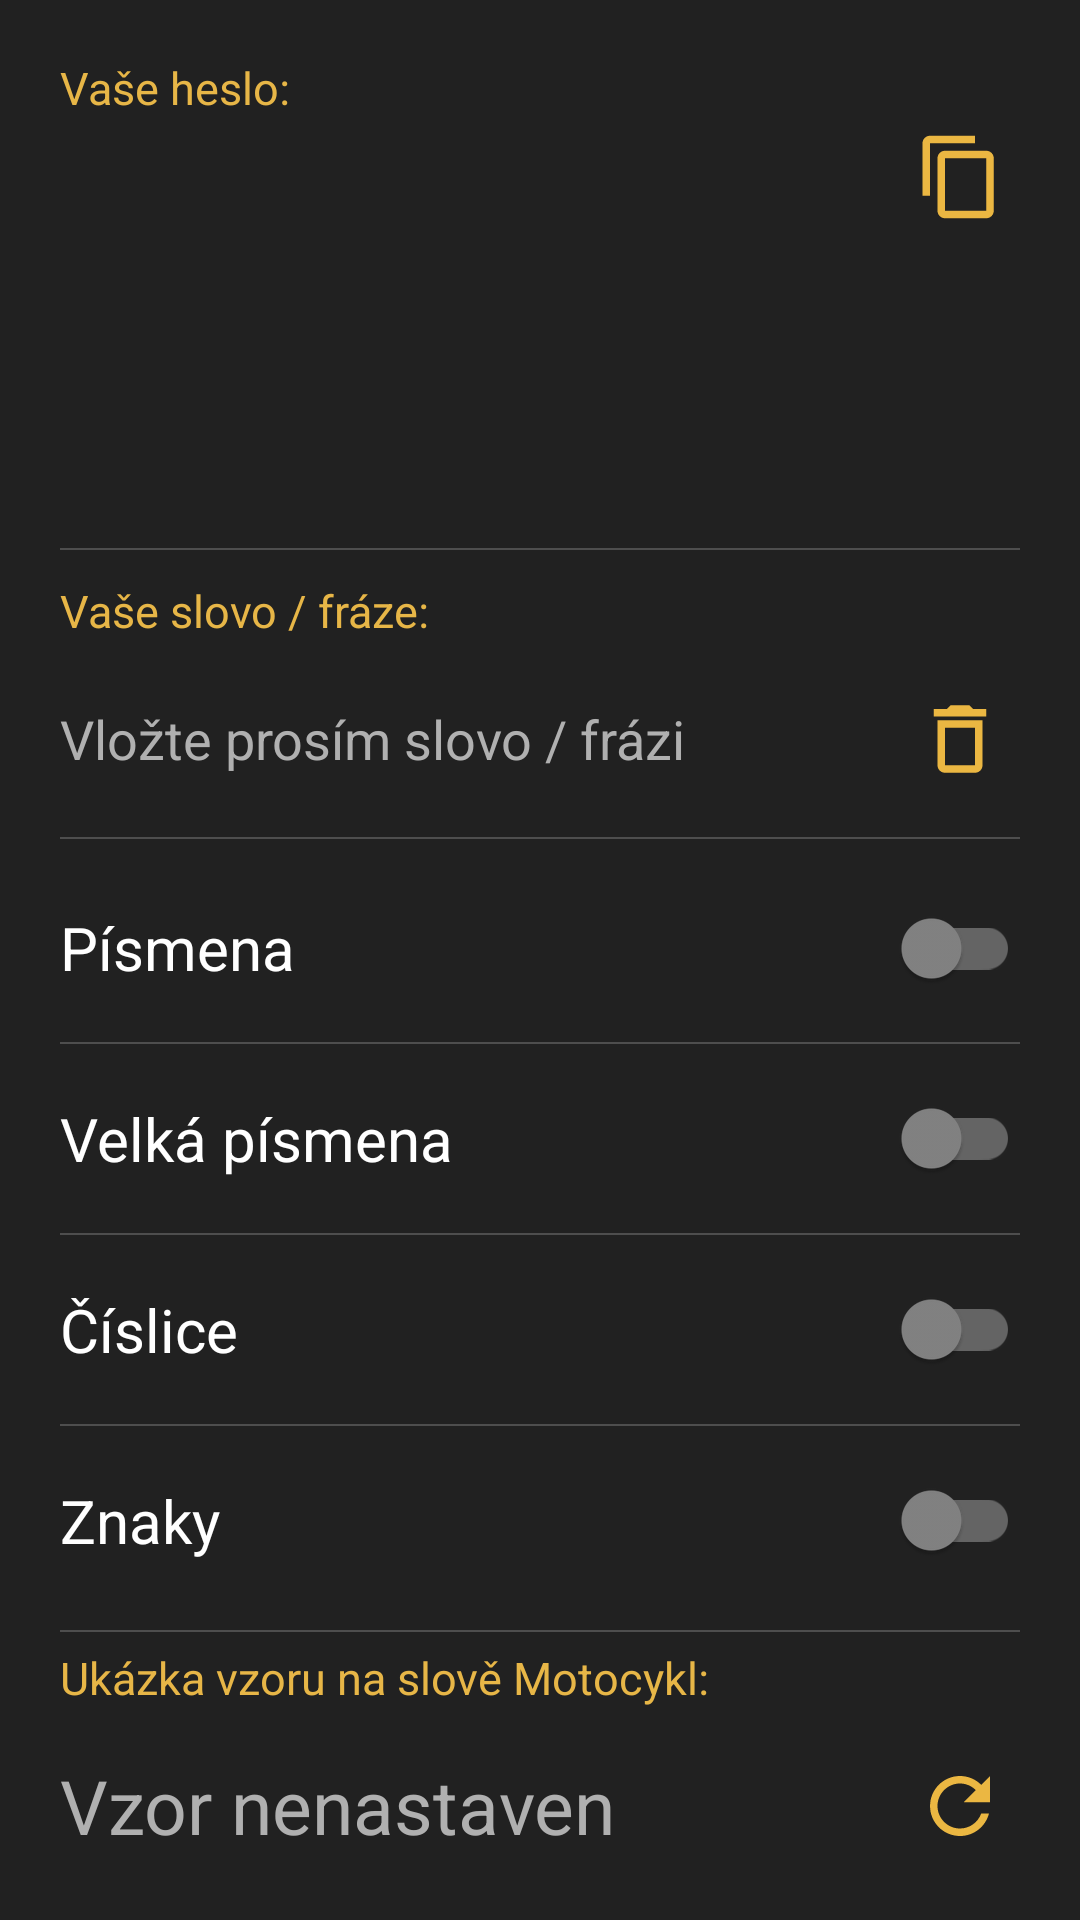

Named icons in this screenshot (1080px×1920px) and their bounding boxes, (x1, y1, x2, y2):
avd delete: (933, 705, 987, 773)
avd refresh: (930, 1776, 990, 1836)
